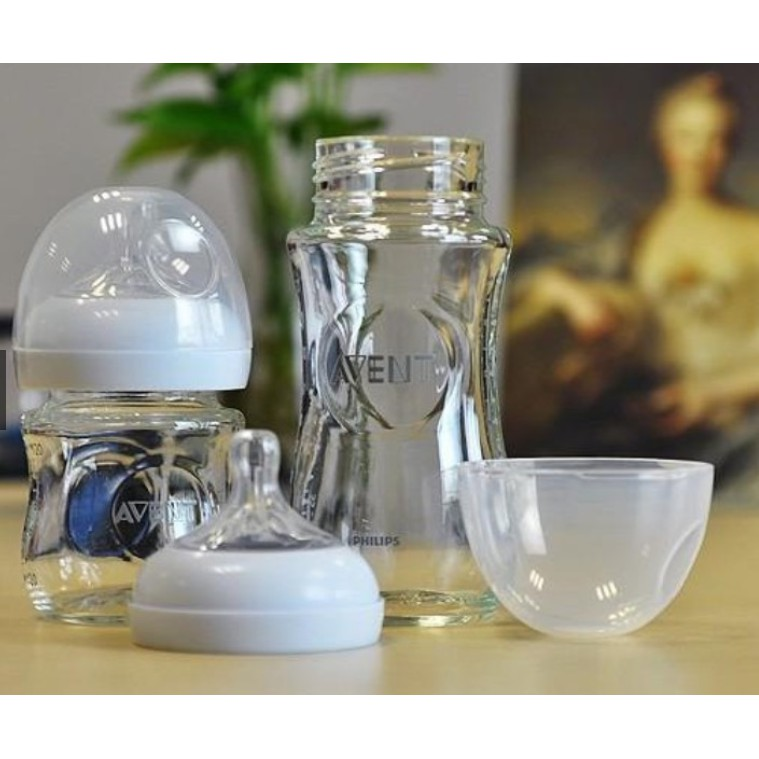glass_bottleww: (263, 117, 548, 667), (9, 155, 302, 664)
